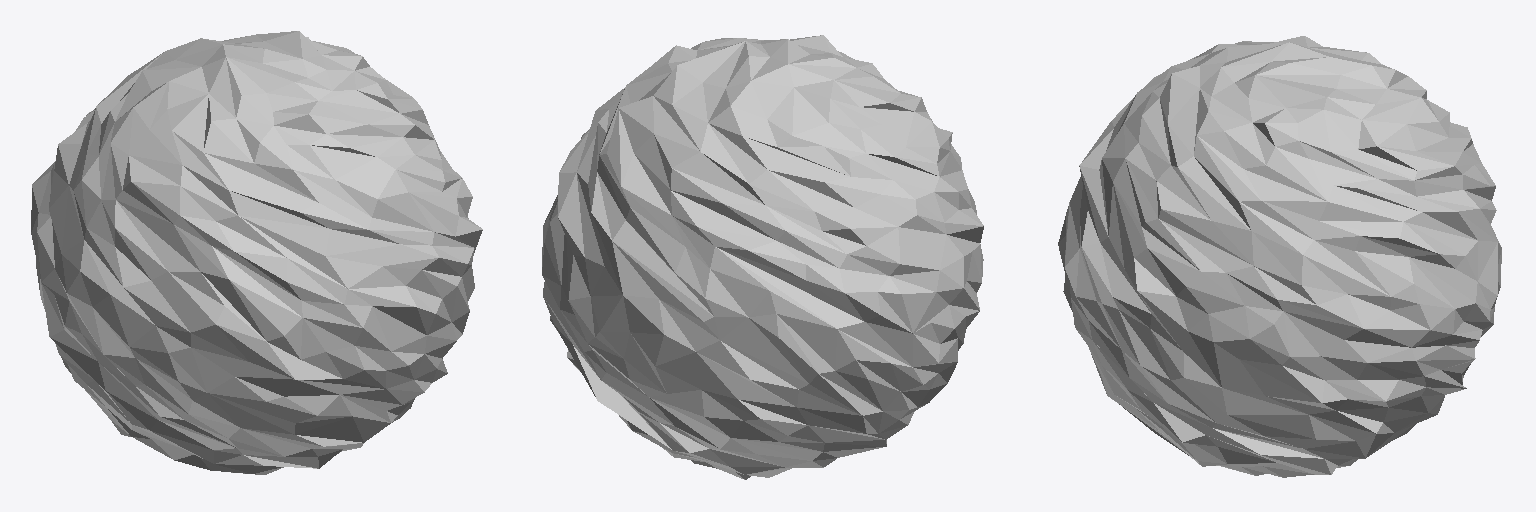
The model's file is neptune.obj.
3 views of the same model, side by side, from view 1: azimuth 30°, elevation 25°; view 2: azimuth 150°, elevation 25°; view 3: azimuth 270°, elevation 25° (orthographic).
Parts seen in each view (by area): view 1: Neptune; view 2: Neptune; view 3: Neptune.
Boxes of the visible parts, <box> form: Neptune: <box>31,31,482,474</box>; Neptune: <box>542,35,983,479</box>; Neptune: <box>1058,36,1501,477</box>.
Bounding box in the file's own units: 8.15 × 8.15 × 8.13.